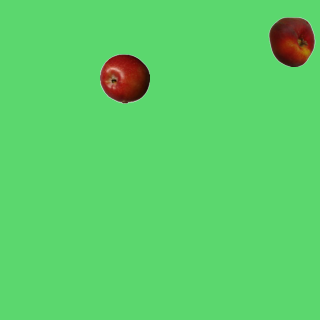Apple Braeburn: (99, 53, 149, 103)
Nectarine Flat: (266, 16, 316, 66)
